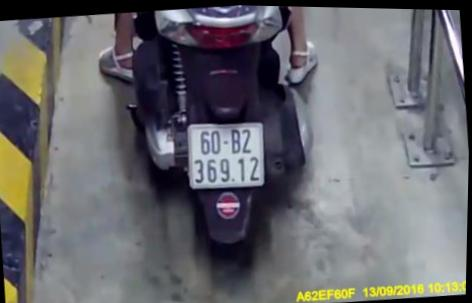LP: (184, 113, 271, 192)
